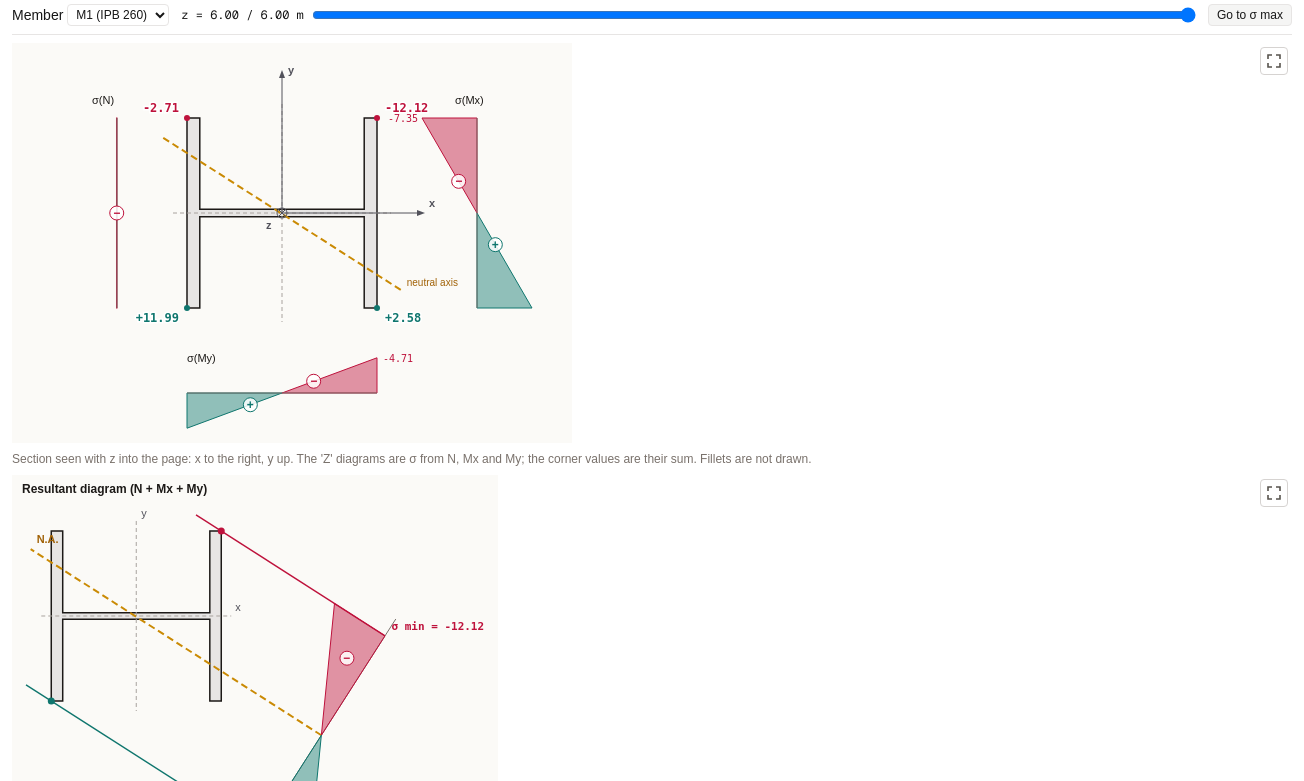
Test: SectionCut full screen controls › while a figure is full screen it shows the Z slider, and moving it moves the cut
Click the button named "Full screen" in the row of "Resultant diagram (N + Mx + My)" at x=1274, y=493, box [1260,479,1288,507]
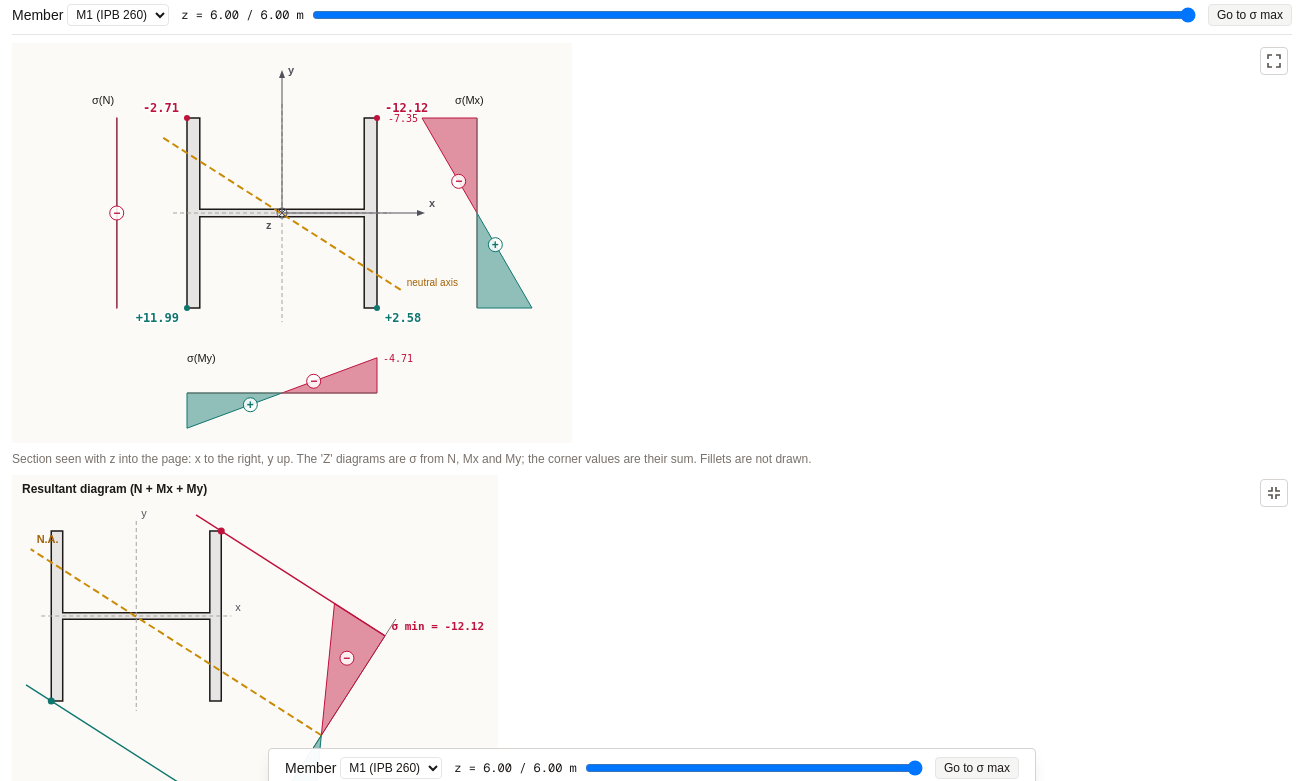
Check: the text with test id "cut-x" shows "z = 6.00", box [181,7,304,23]
Set the slider named "cut position (full screen)" to "0" at x=593, y=768, box [585,760,923,776]
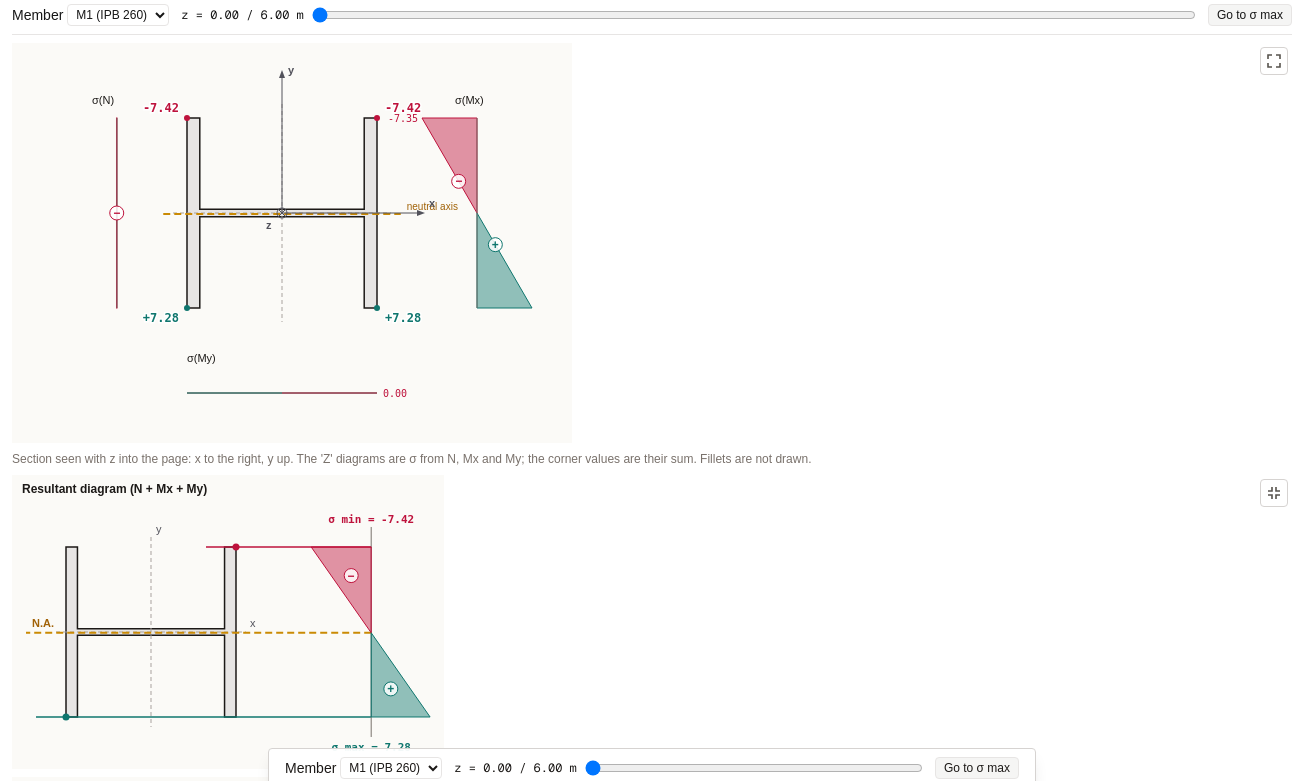
Check: the button named "Exit full screen" is shown, box [1260,479,1288,507]
Check: the text with test id "cut-x" shows "z = 0.00", box [181,7,304,23]
